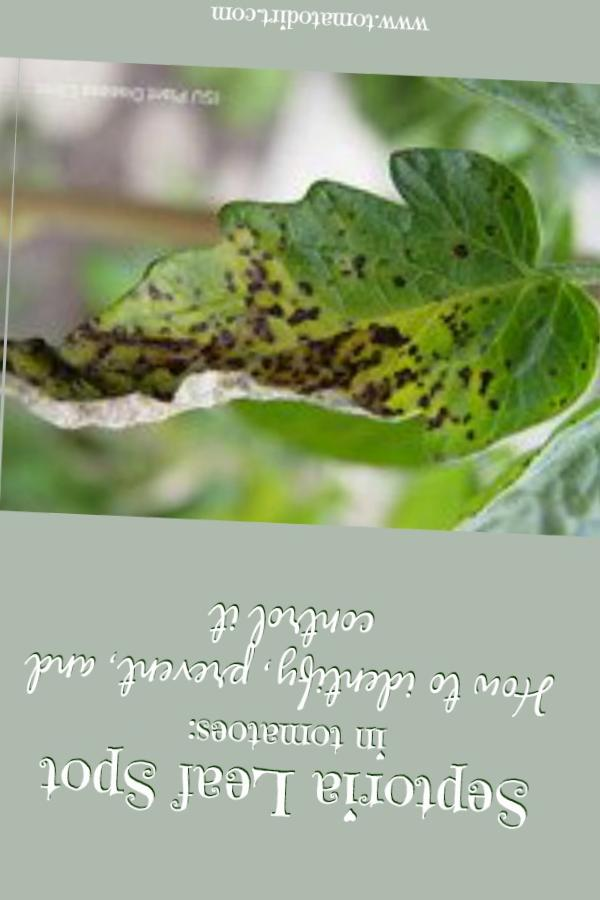Tomato Septoria leaf spot: (0, 120, 600, 477)
